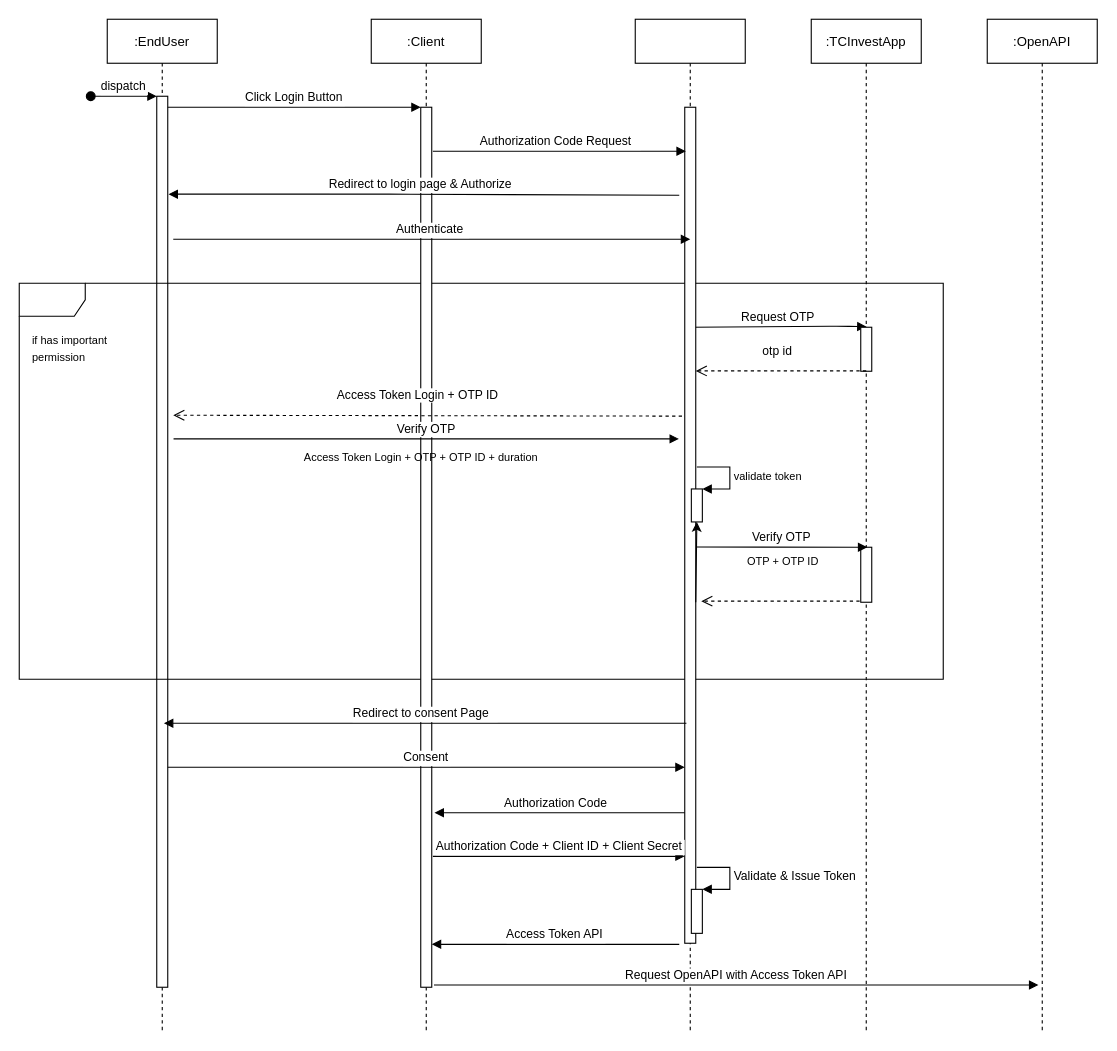
Some shapes in this 1117 by 1051 pixel diagram are drawn without their labels. The box of each missing label's shape, as (x1, y1, x2, y2) in pixels:
:AuthServer: (634, 18, 745, 1031)
alt: (18, 282, 943, 679)
